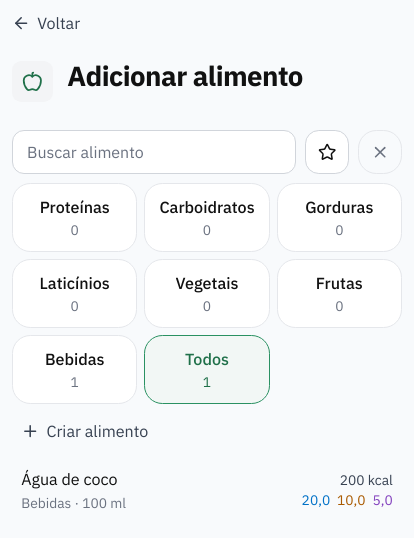
FoodSelectionScreen › labels the field Mililitros for a liquid food
The width and height of the screenshot is (414, 538).
Type "água" into the search field named "Buscar alimento para adicionar" at (154, 152), box [12,130,296,174]
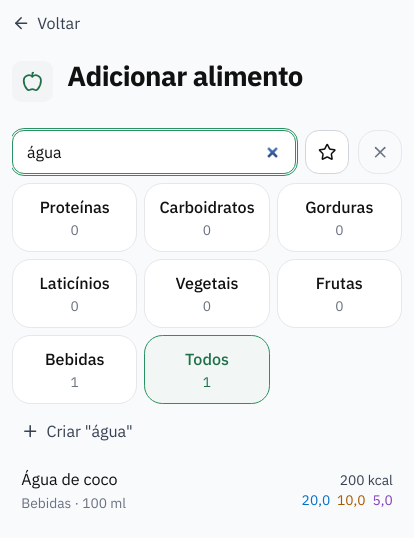
Click the button "Água de coco Bebidas · 100 ml 200 kcal 20,0 10,0 5,0" at (69, 479), box [12,459,402,521]
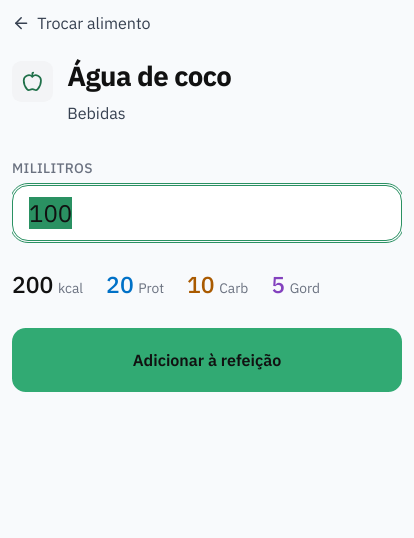
Expected: the field labelled "Mililitros" is shown, [12,184,402,240]
